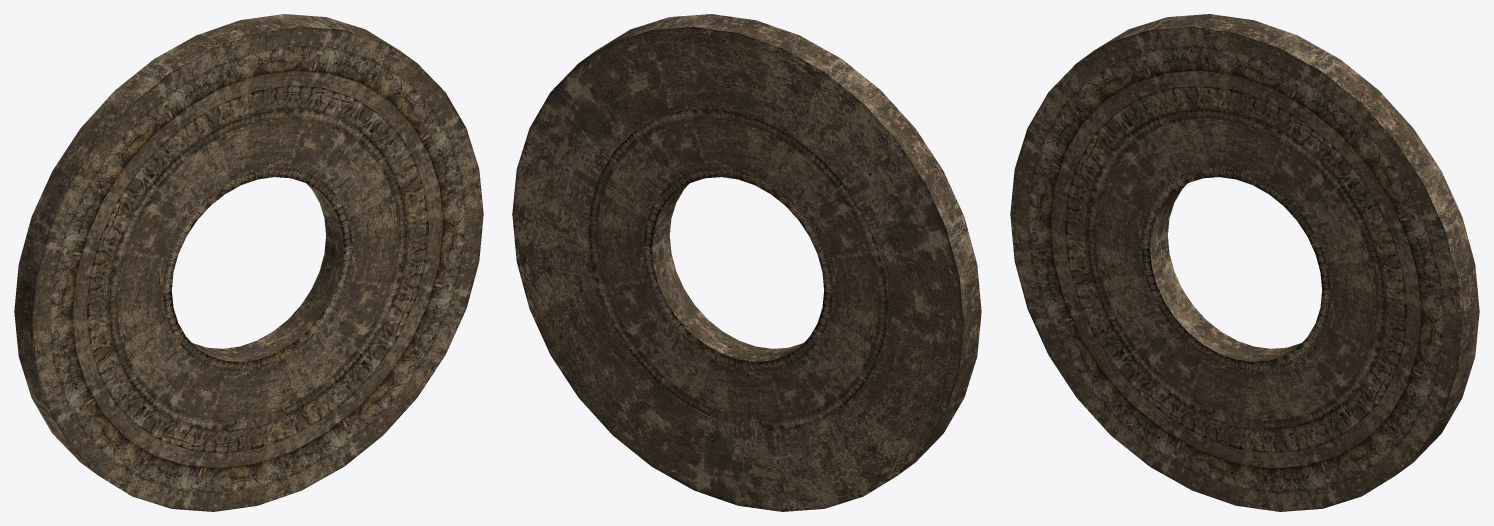
The model's file is materials_5_decoration_plate_11.fbx.
3 renders of one model, left to right at view 1: azimuth 30°, elevation 25°; view 2: azimuth 150°, elevation 25°; view 3: azimuth 330°, elevation 25°, orthographic.
Parts seen in each view (by area): view 1: materials_5_decoration_plate_11; view 2: materials_5_decoration_plate_11; view 3: materials_5_decoration_plate_11.
Boxes of the visible parts, left/top/right/bottom form: materials_5_decoration_plate_11: left=14, top=14, right=483, bottom=511; materials_5_decoration_plate_11: left=512, top=14, right=981, bottom=511; materials_5_decoration_plate_11: left=1010, top=14, right=1479, bottom=511.
Bounding box in the file's own units: 118 × 118 × 8.
